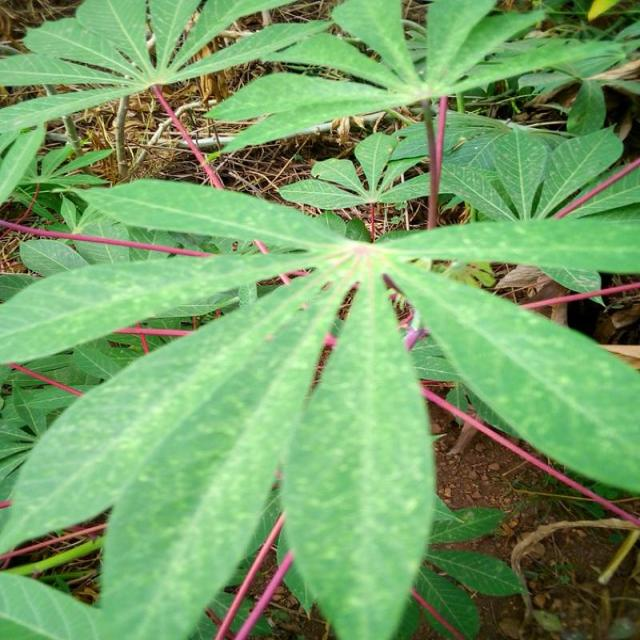cassava leaf: (1, 265, 346, 638), (276, 263, 438, 638)
